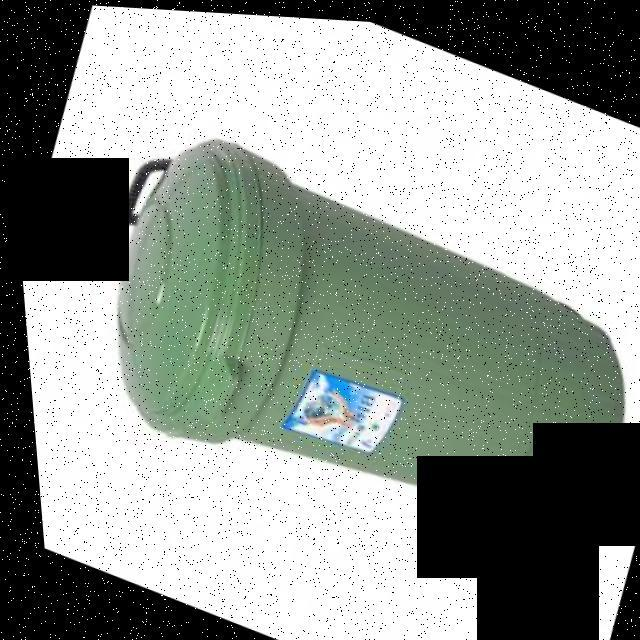bin: (30, 75, 640, 616)
